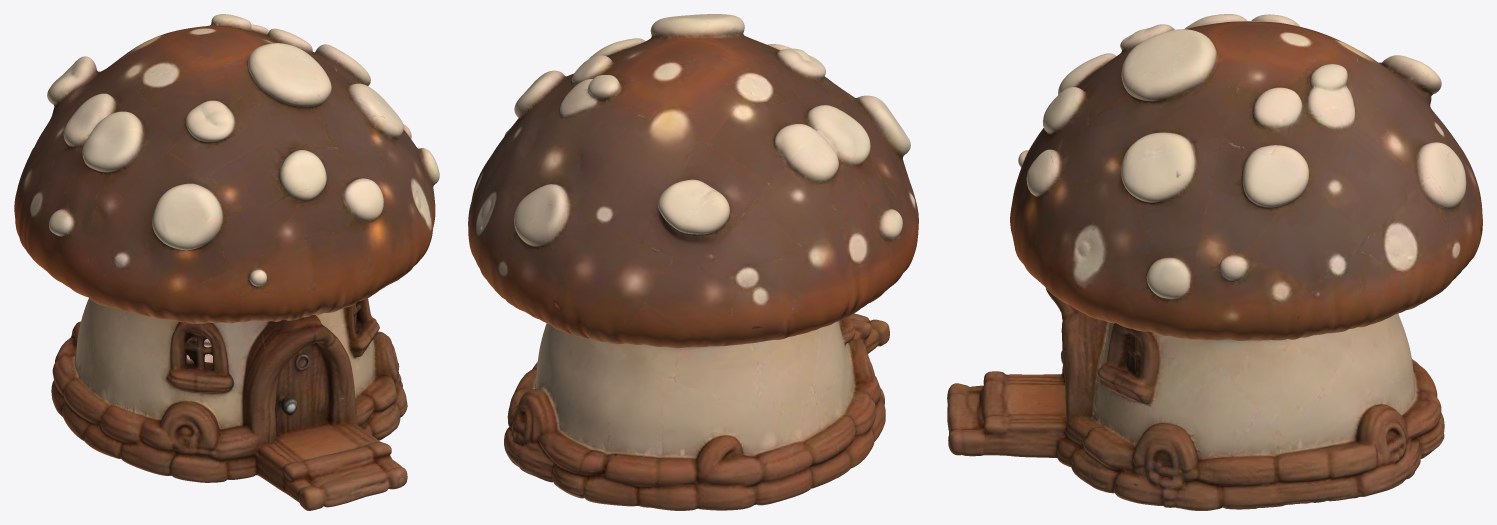
File: house.glb
3 views of the same model, side by side, from view 1: azimuth 30°, elevation 25°; view 2: azimuth 150°, elevation 25°; view 3: azimuth 270°, elevation 25° (orthographic). The views are drawn at different scales.
Size of the model in its own units: 1.74 by 1.68 by 2.
Materials: 1 (1 with a texture image).
